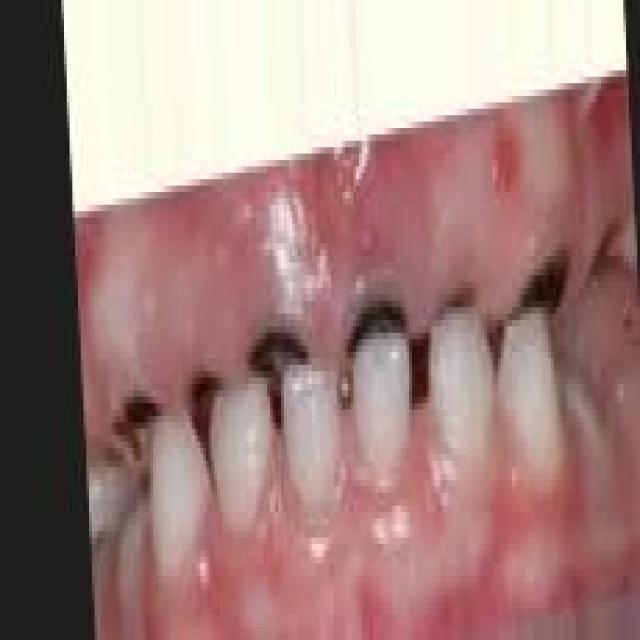caries: (100, 377, 163, 497), (503, 241, 569, 342), (341, 273, 411, 357), (247, 313, 313, 398), (181, 352, 228, 432)
